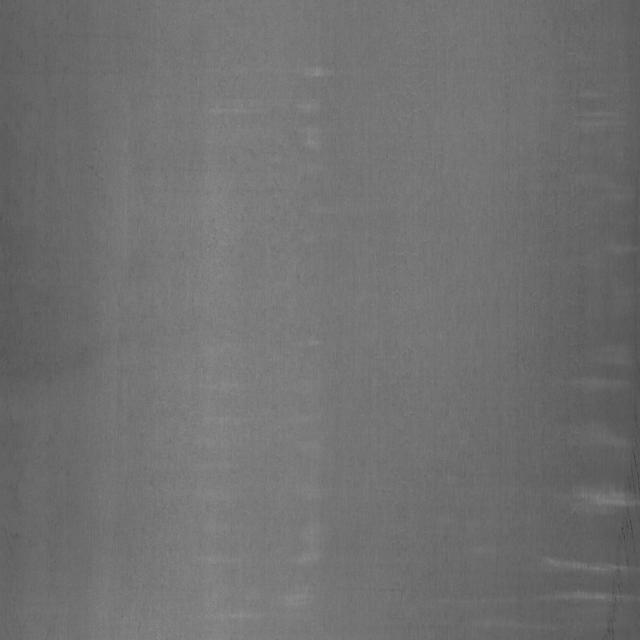punching_hole: (191, 39, 629, 612)
